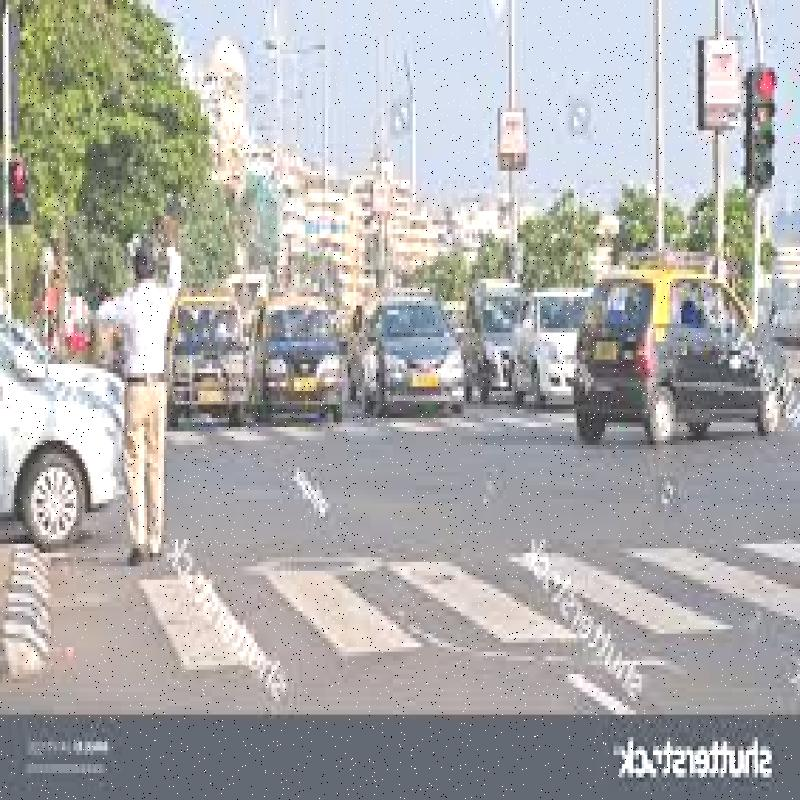car: (561, 263, 800, 448), (375, 284, 475, 405), (260, 275, 339, 415)
